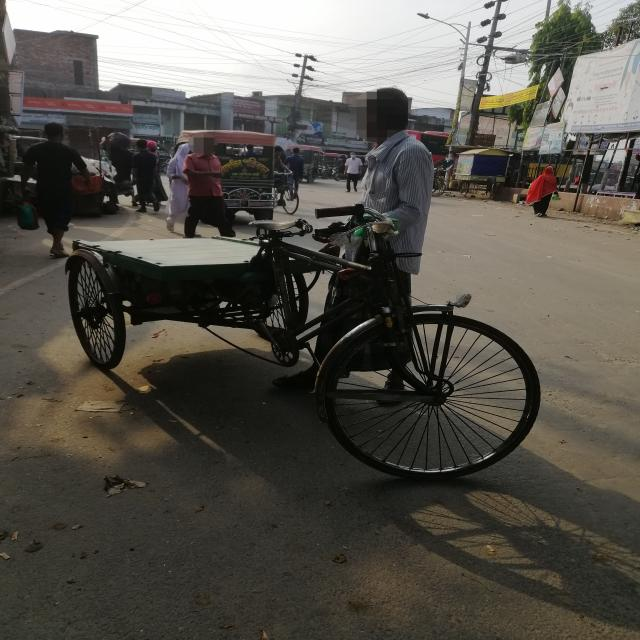Van: (52, 203, 547, 496)
